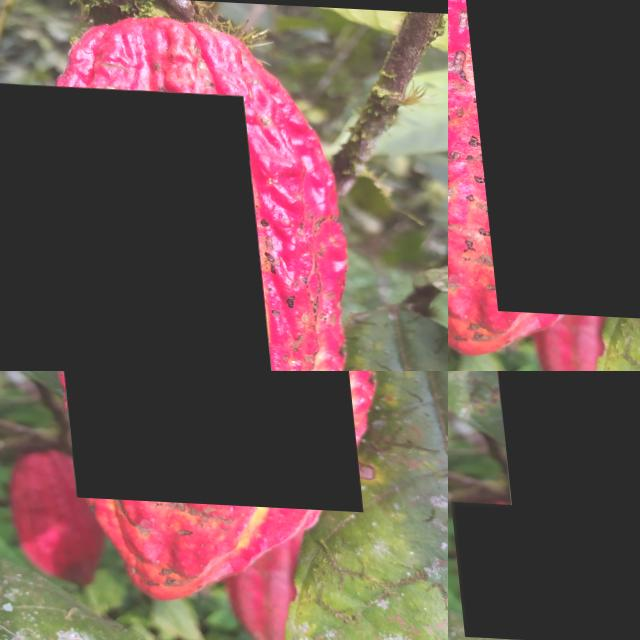Monilia: (457, 0, 640, 315)
Sana: (0, 79, 279, 371), (467, 371, 640, 640), (35, 371, 353, 507), (448, 500, 552, 639)
